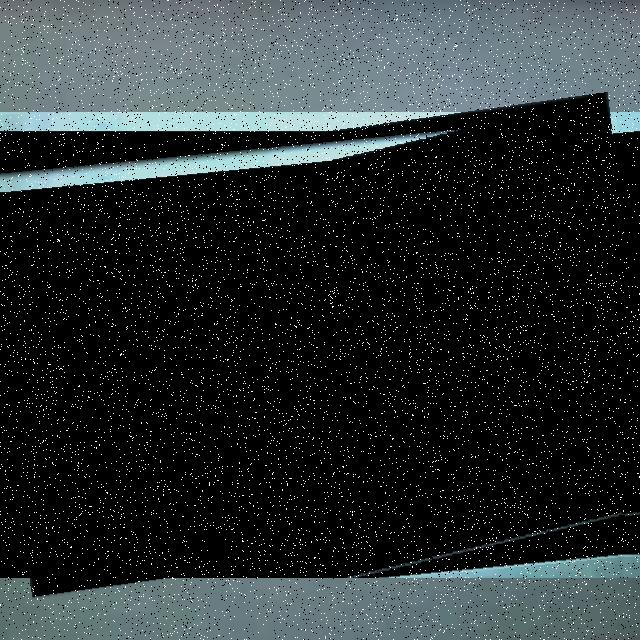lima puluh ribu rupiah: (0, 112, 640, 578)
